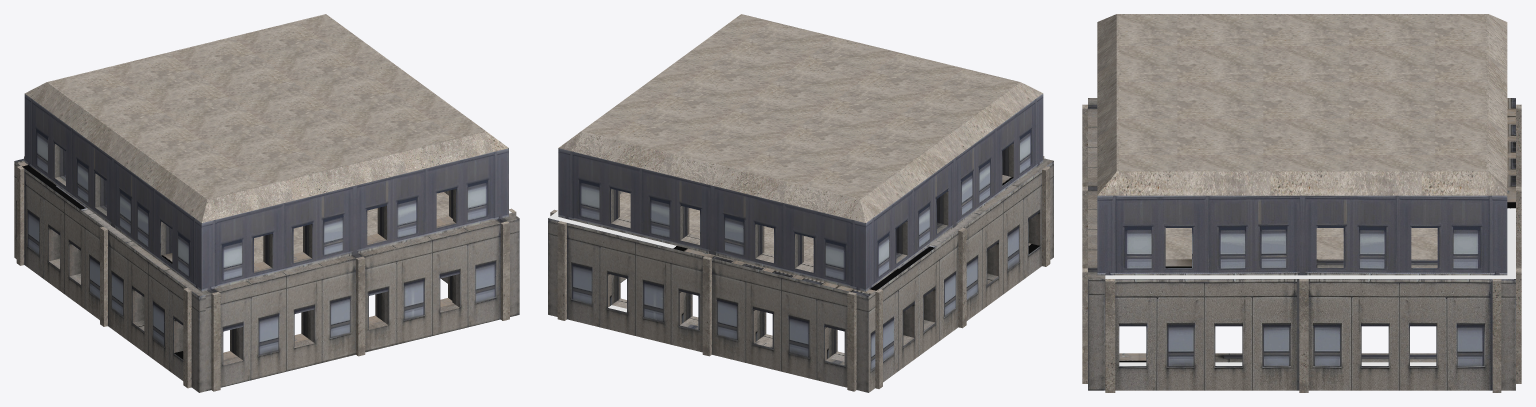
Rendered from BagSS01top_500.fbx.
The picture shows the model from 3 angles, left to right: view 1: azimuth 30°, elevation 25°; view 2: azimuth 150°, elevation 25°; view 3: azimuth 270°, elevation 25°; orthographic projection. The views are drawn at different scales.
Parts seen in each view (by area): view 1: topC500, topB500, topA500; view 2: topC500, topB500, topA500; view 3: topC500, topB500, topA500.
Boxes of the visible parts, x1=… form: topC500: x1=14, y1=94, x2=519, y2=392; topB500: x1=25, y1=14, x2=508, y2=222; topA500: x1=16, y1=156, x2=516, y2=391; topC500: x1=548, y1=94, x2=1053, y2=392; topB500: x1=558, y1=14, x2=1042, y2=222; topA500: x1=550, y1=156, x2=1050, y2=391; topC500: x1=1088, y1=98, x2=1515, y2=390; topB500: x1=1097, y1=14, x2=1507, y2=195; topA500: x1=1082, y1=104, x2=1521, y2=392.
Size of the model in its own units: 17.98 by 9.37 by 17.99.
